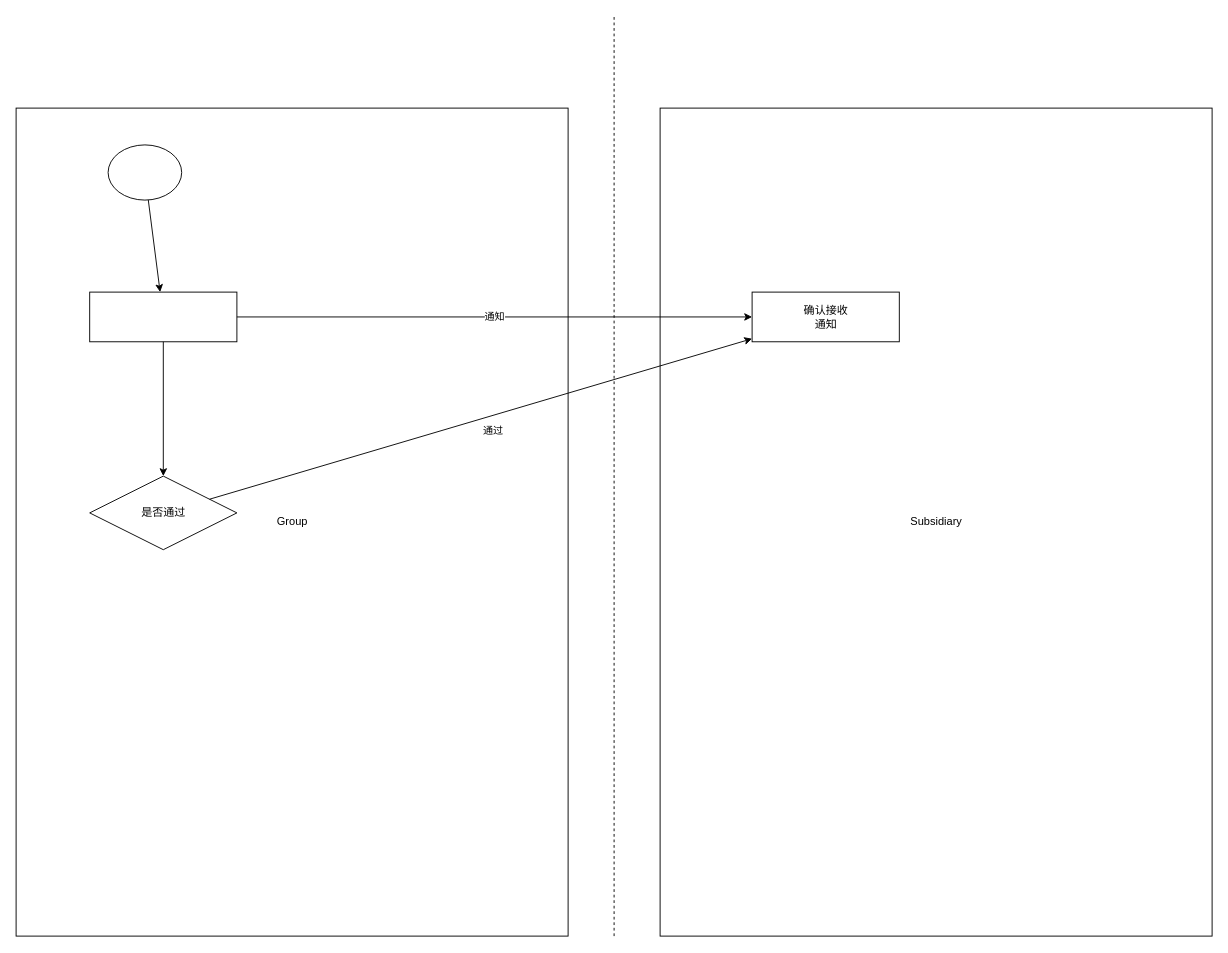
The diagram is 1228 pixels wide and 953 high, and some of its shapes have lost their labels. The centre of each missing label's shape, as x and y in pixels:
"下发任务" goes at point (163, 316).
"开始" goes at point (144, 172).
